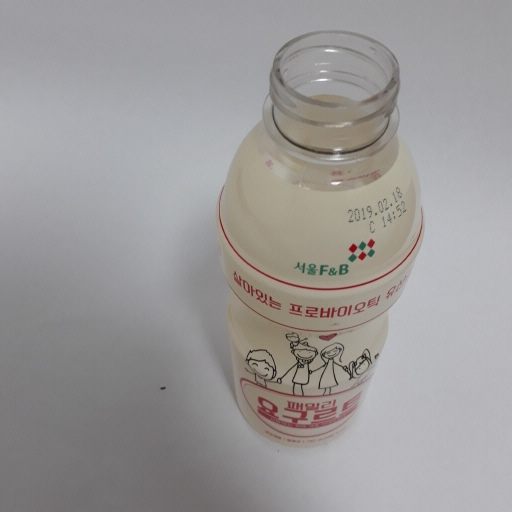Plastic_0: (212, 27, 427, 445)
